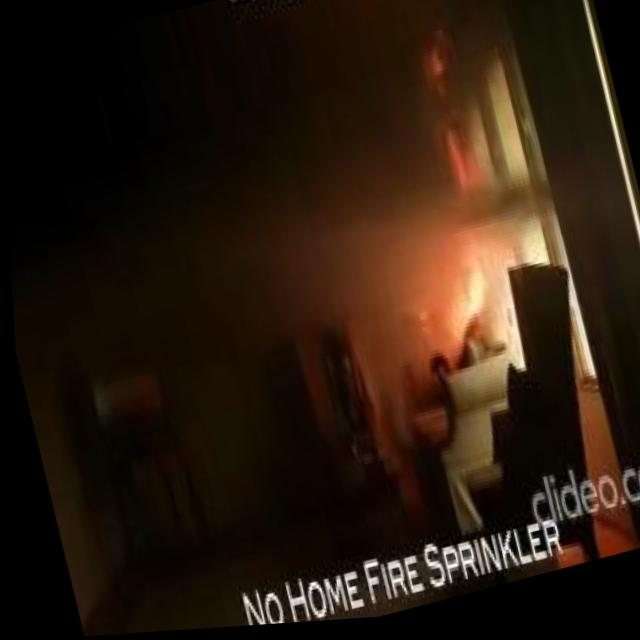fire: (433, 251, 501, 358), (441, 130, 476, 210), (420, 53, 450, 95)
